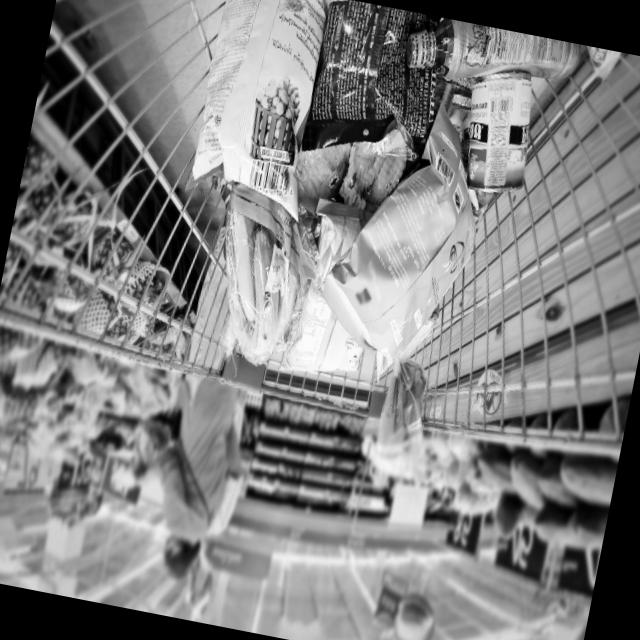bread: (353, 298, 458, 468)
chuoi: (202, 206, 312, 367)
